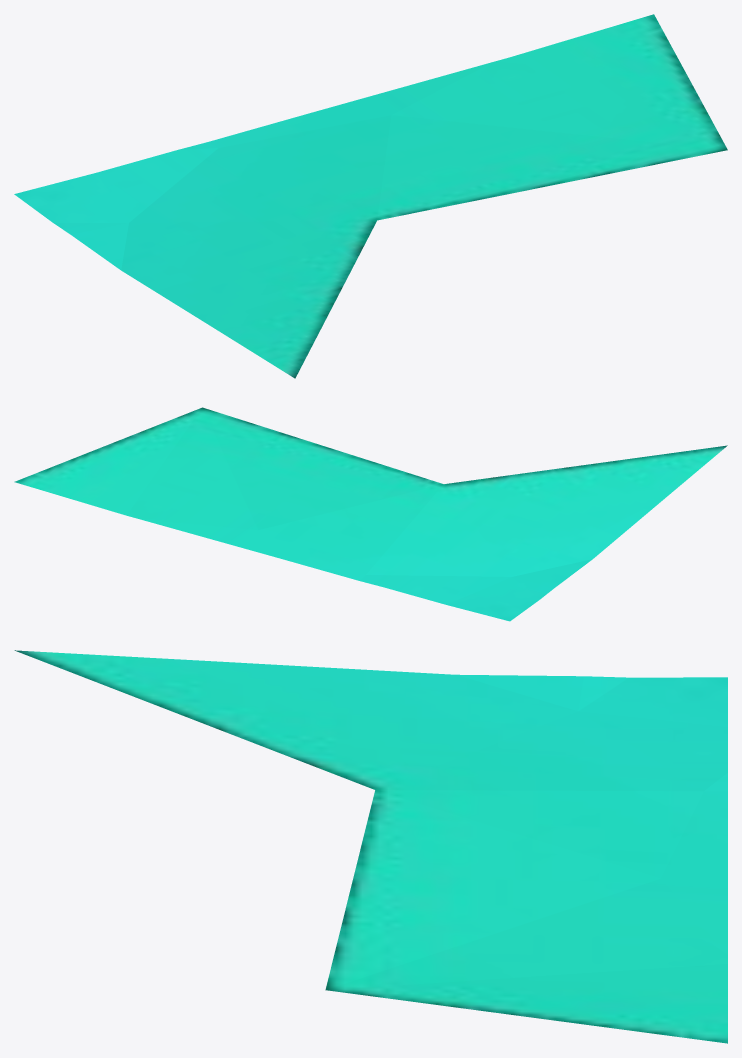
The picture shows the model from 3 angles, top to bottom: view 1: azimuth 30°, elevation 25°; view 2: azimuth 150°, elevation 25°; view 3: azimuth 270°, elevation 25°; orthographic projection. The views are drawn at different scales.
Bounding box in the file's own units: 5.57 × 0.2056 × 4.24.
1 material, 1 textured.
